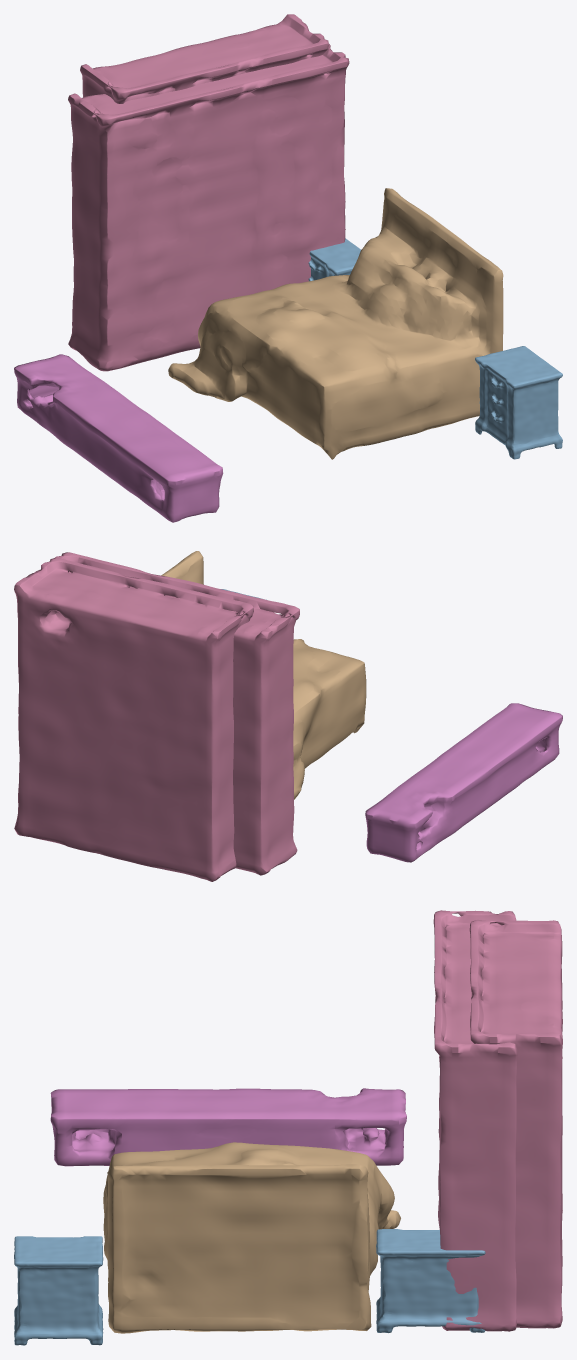
The model's file is MasterBedroom-9404_echoscene.glb.
3 renders of one model, top to bottom at view 1: azimuth 30°, elevation 25°; view 2: azimuth 150°, elevation 25°; view 3: azimuth 270°, elevation 25°, orthographic. The views are drawn at different scales.
Visible parts, largest first — view 1: world; view 2: world; view 3: world.
Part boxes in pixels (x1,y1,x2,y2): world: (14, 14, 562, 522); world: (14, 551, 562, 881); world: (14, 910, 562, 1345).
Size of the model in its own units: 3.55 by 2.39 by 3.99.
